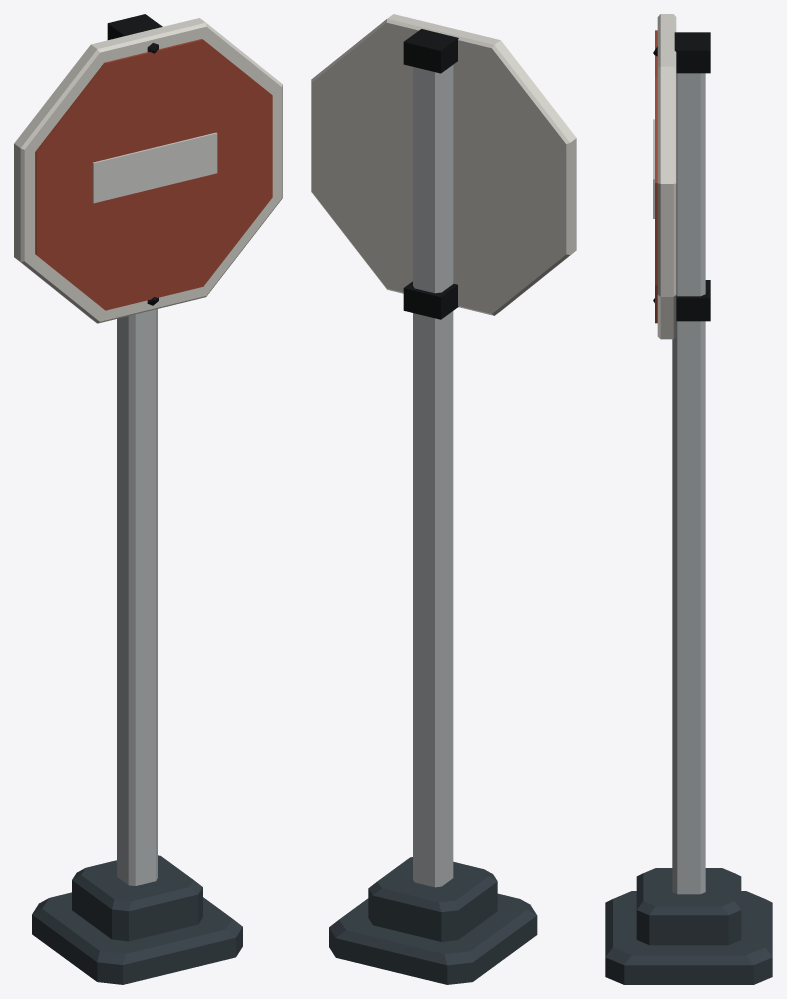
File: street-sign-post-c621b4.glb
3 renders of one model, left to right at view 1: azimuth 30°, elevation 25°; view 2: azimuth 150°, elevation 25°; view 3: azimuth 270°, elevation 25°, orthographic.
Visible parts, largest first — view 1: sign-plate-mesh, post-assembly; view 2: post-assembly, sign-plate-mesh; view 3: post-assembly, sign-plate-mesh.
Part boxes in pixels (x1,y1,x2,y2): sign-plate-mesh: [14, 18, 282, 323]; post-assembly: [32, 14, 242, 984]; post-assembly: [329, 29, 537, 984]; sign-plate-mesh: [311, 14, 576, 315]; post-assembly: [605, 32, 772, 984]; sign-plate-mesh: [653, 14, 676, 339].
Size of the model in its own units: 0.72 by 2.4 by 0.4.
